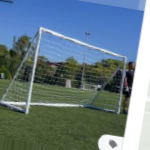goals: (1, 25, 128, 118)
